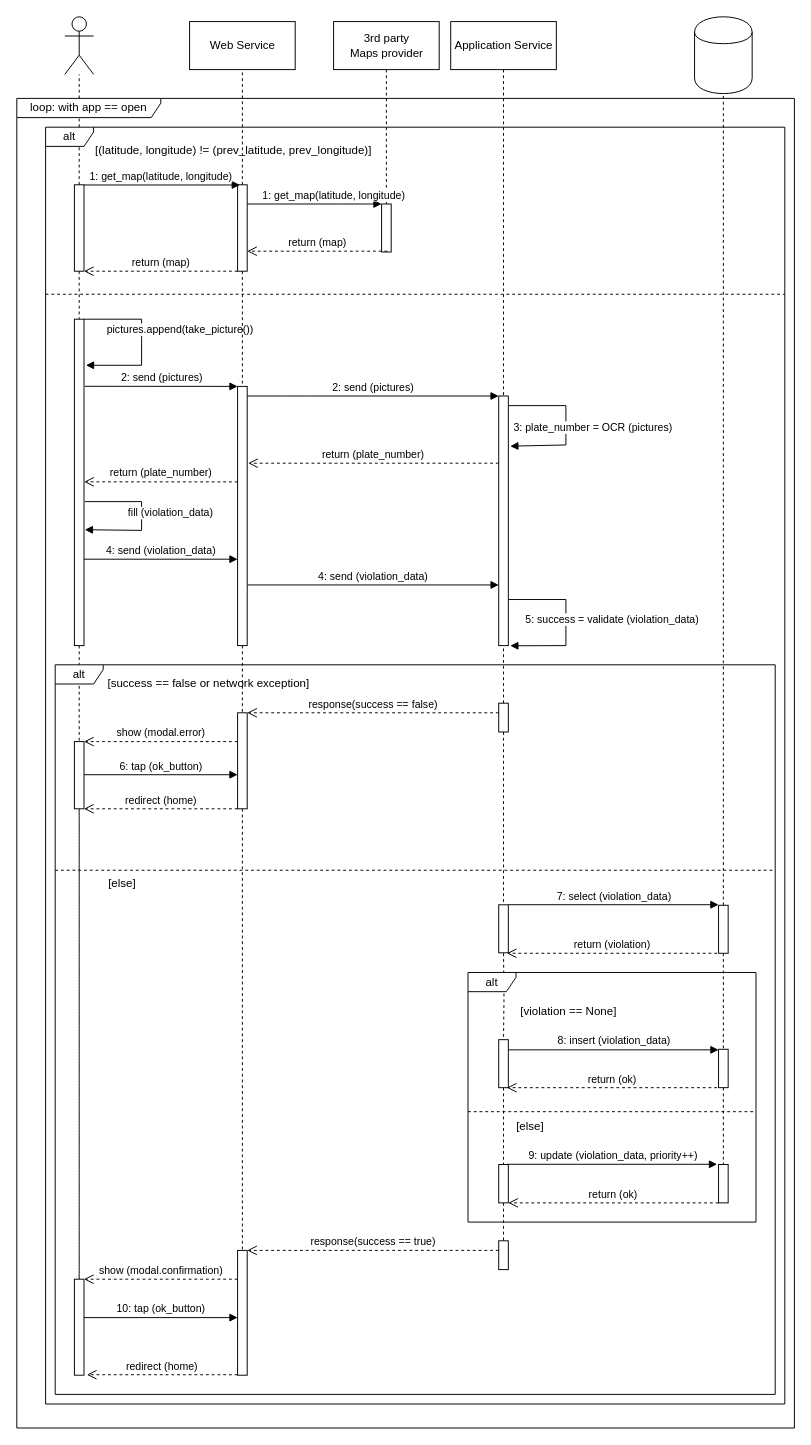
Image size: 811x1445. Some labels were removed from this diagram. Here are the shapes that lost their labels. From the top down, the box of each, then its label:
(64, 16, 94, 74): Private User
(694, 16, 752, 94): Database Service
